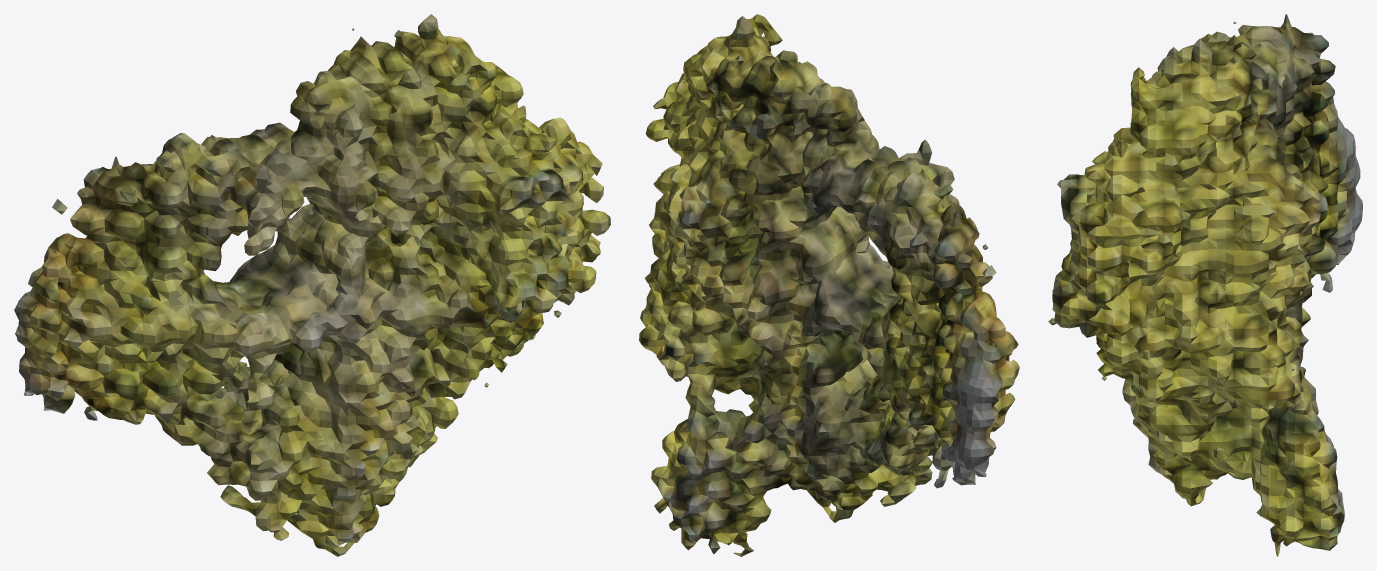
File: bush.glb
The picture shows the model from 3 angles, left to right: view 1: azimuth 30°, elevation 25°; view 2: azimuth 150°, elevation 25°; view 3: azimuth 270°, elevation 25°; orthographic projection. The views are drawn at different scales.
Visible parts, largest first — view 1: geometry_0; view 2: geometry_0; view 3: geometry_0.
Part boxes in pixels (left/top/right/bottom): geometry_0: left=14, top=14, right=610, bottom=556; geometry_0: left=639, top=14, right=1019, bottom=556; geometry_0: left=1048, top=14, right=1362, bottom=556.
Size of the model in its own units: 0.8567 by 0.9321 by 0.4975.
